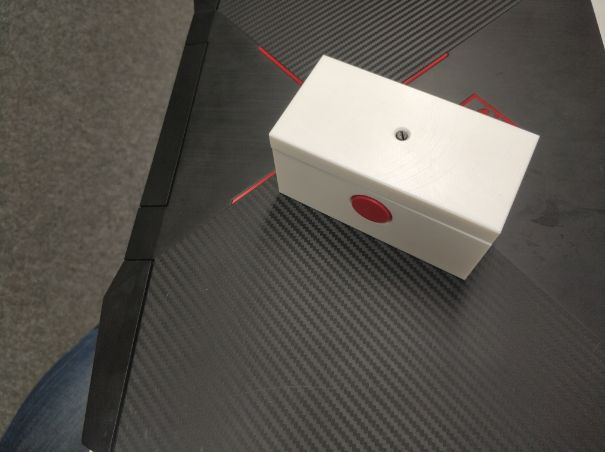white+white+red: (265, 51, 546, 292)
